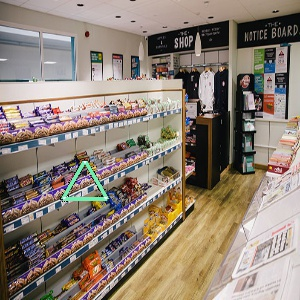triangle: (56, 159, 113, 209)
